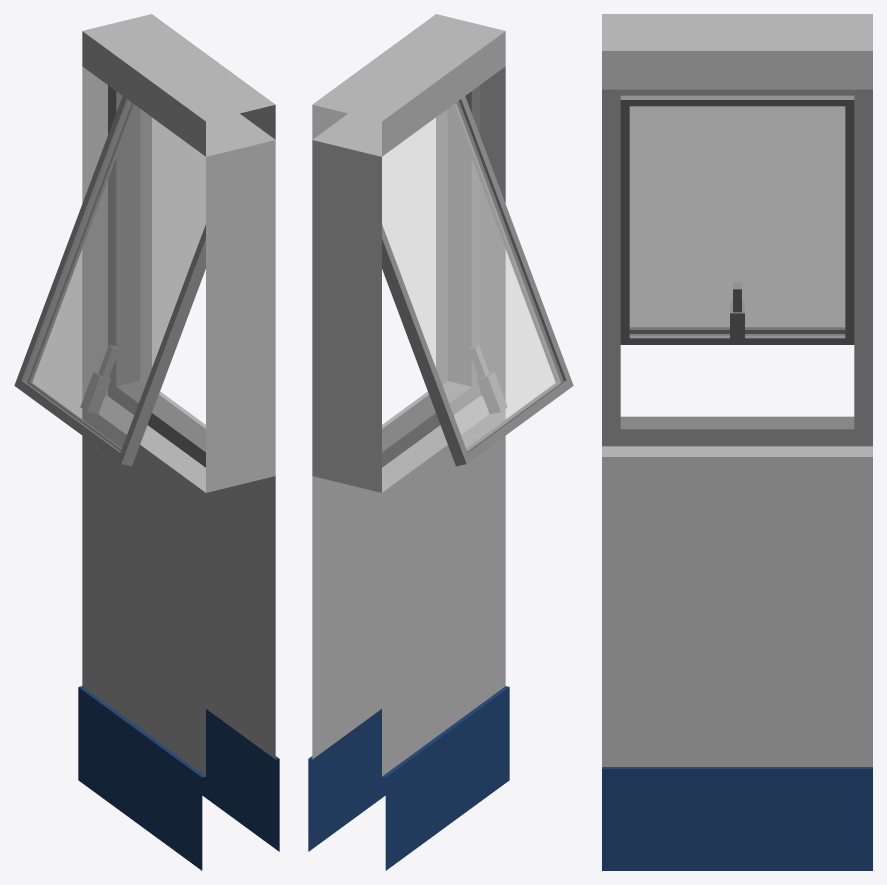
Rendered from Janela_Aberta.fbx.
3 renders of one model, left to right at view 1: azimuth 30°, elevation 25°; view 2: azimuth 150°, elevation 25°; view 3: azimuth 270°, elevation 25°, orthographic. The views are drawn at different scales.
Visible parts, largest first — view 1: Cubo.022; view 2: Cubo.022; view 3: Cubo.022.
Boxes of the visible parts, box(x1,y1,x2,y2) form: Cubo.022: box(14, 14, 279, 870); Cubo.022: box(308, 14, 573, 870); Cubo.022: box(602, 14, 872, 870).
Bounding box in the file's own units: 105 × 500 × 150.
